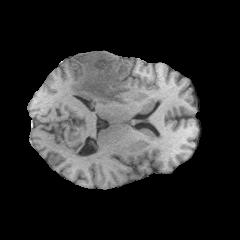glioma: (70, 51, 132, 105)
